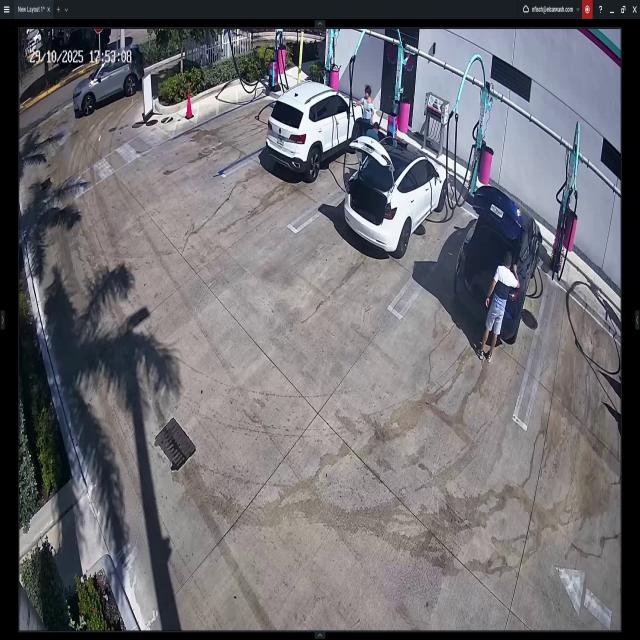Car: (453, 190, 542, 337), (340, 132, 448, 250), (266, 88, 363, 172), (71, 48, 141, 110)
